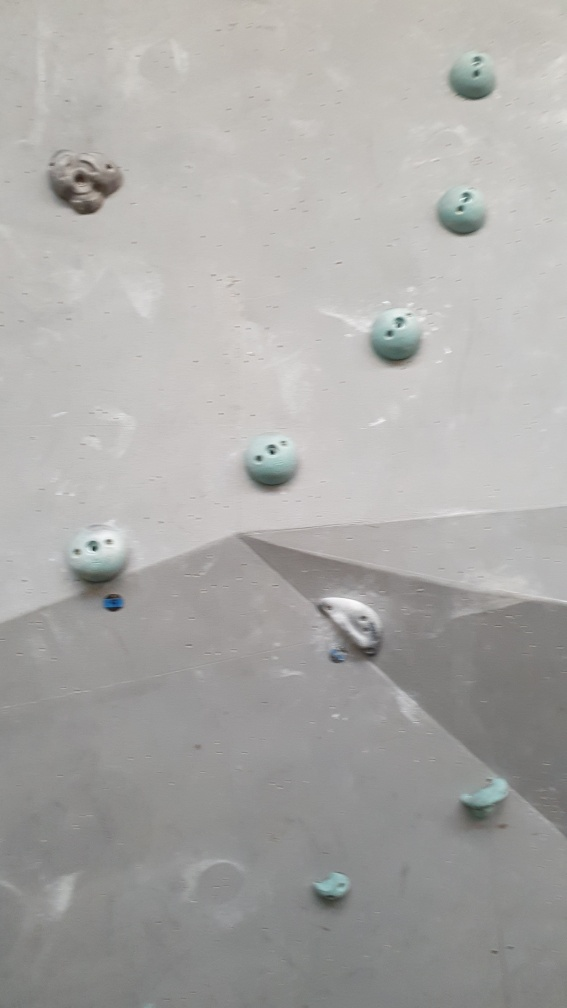Hand Start: (327, 643, 352, 669), (102, 590, 126, 615)
Jug: (38, 143, 128, 216)
Sloper: (64, 519, 133, 582), (369, 301, 427, 368), (241, 431, 302, 493), (434, 184, 491, 237), (446, 49, 498, 101)
